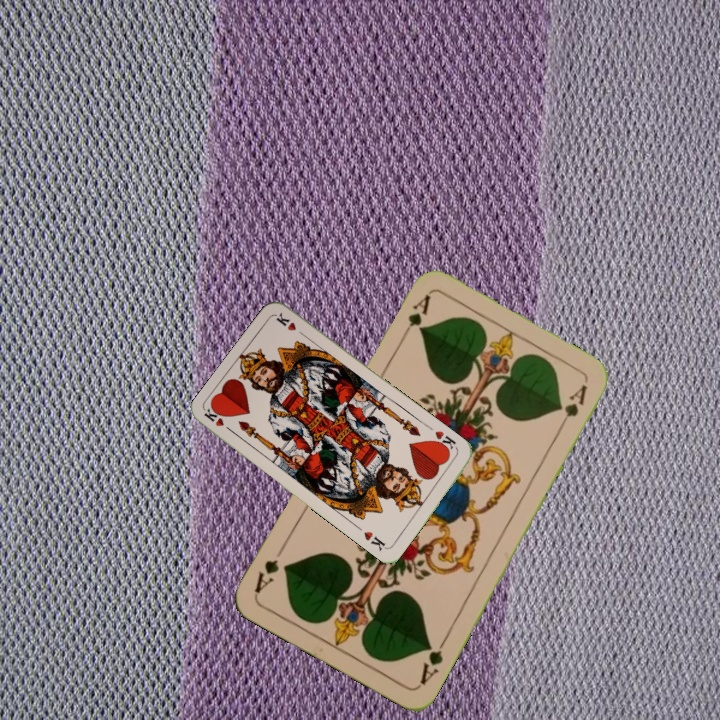GA: (396, 290, 433, 344), (415, 633, 450, 688)
HK: (200, 404, 237, 436), (428, 427, 461, 456)
